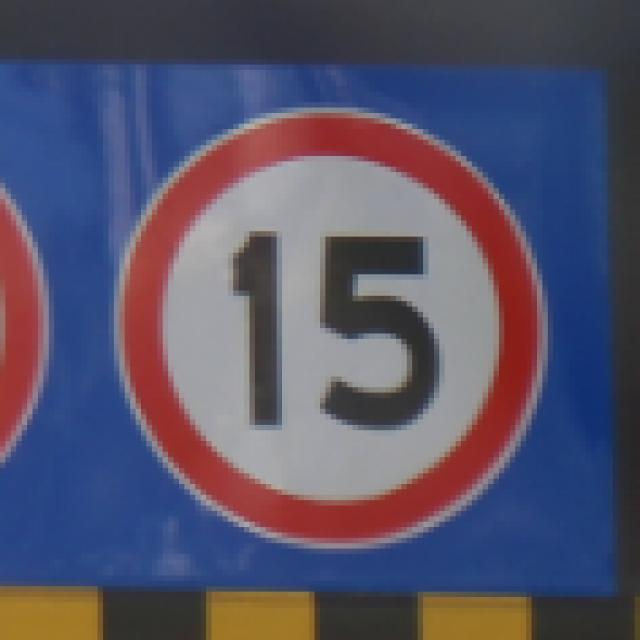Speed: (103, 119, 592, 575)
